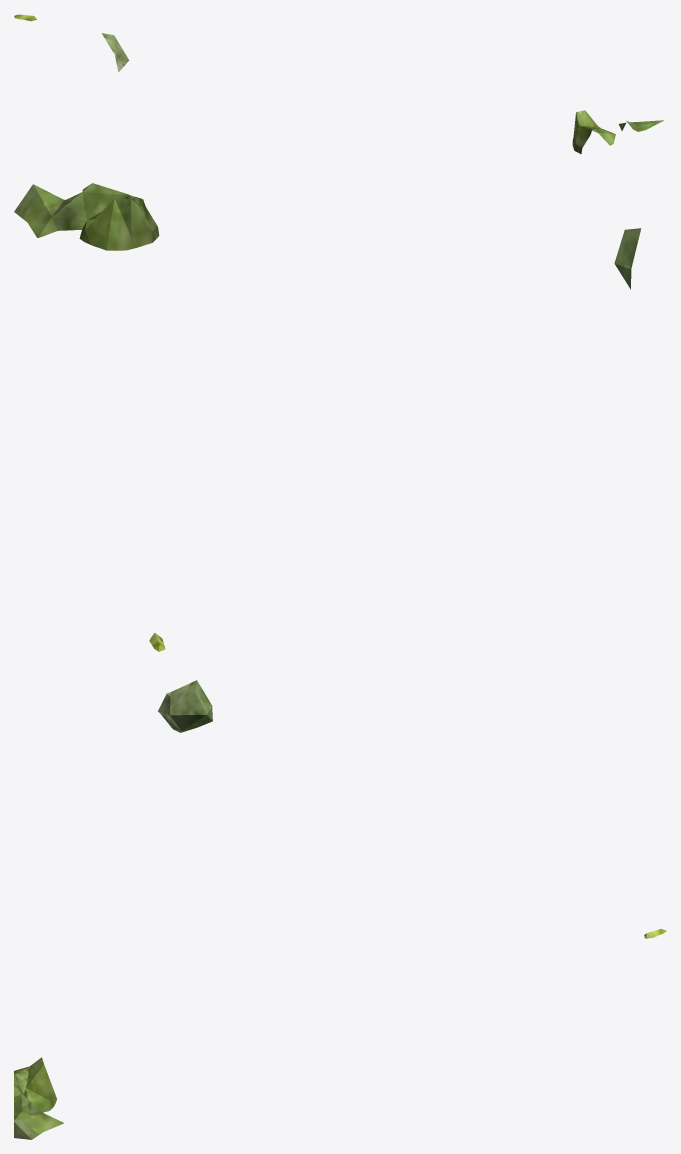
3 renders of one model, top to bottom at view 1: azimuth 30°, elevation 25°; view 2: azimuth 150°, elevation 25°; view 3: azimuth 270°, elevation 25°, orthographic. The views are drawn at different scales.
Bounding box in the file's own units: 21.95 × 6.9 × 22.05.
1 material, 1 textured.
